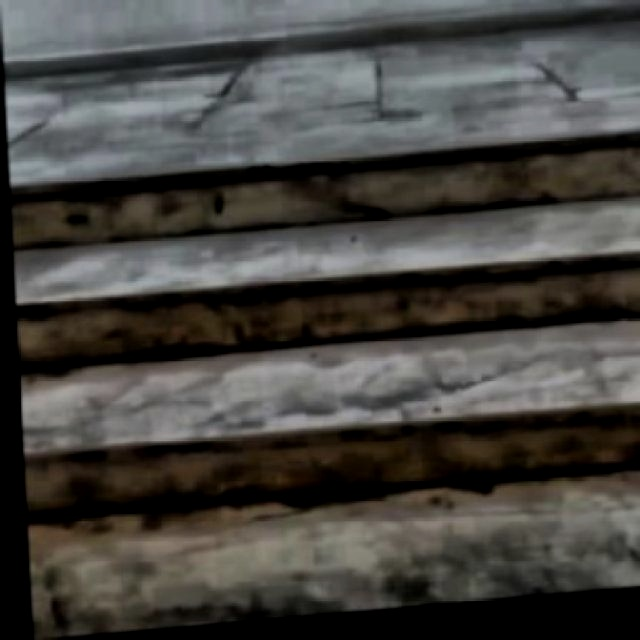stair: (8, 134, 638, 638)
